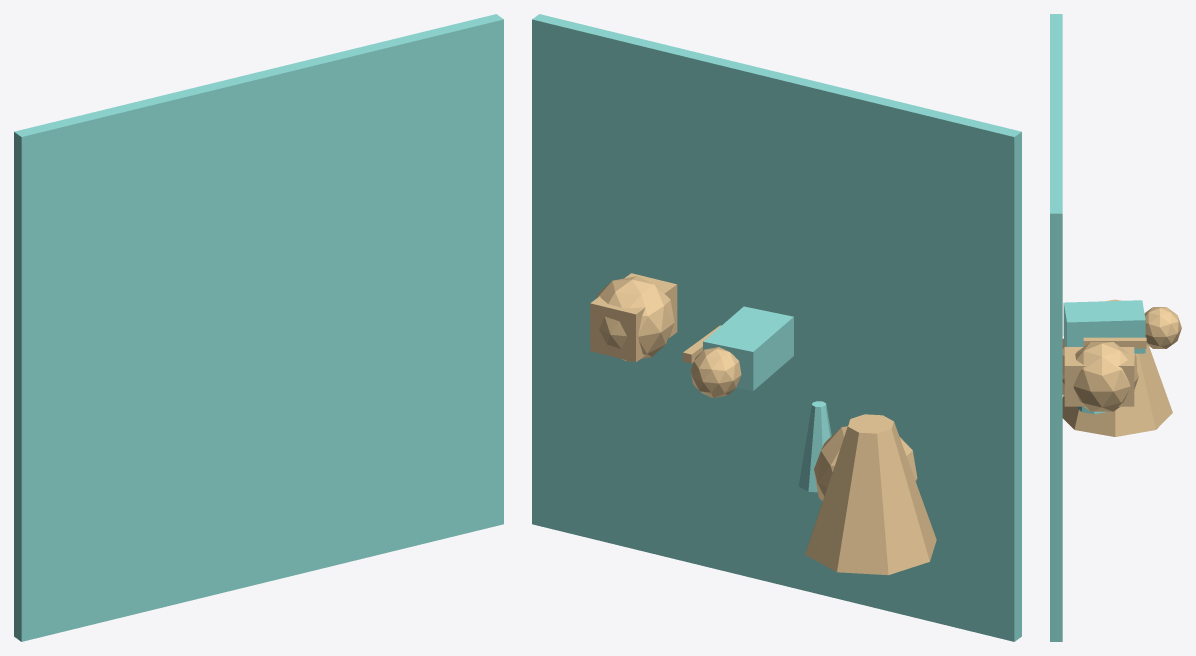
The model's file is europa-survivor-kit.glb.
The picture shows the model from 3 angles, left to right: view 1: azimuth 30°, elevation 25°; view 2: azimuth 150°, elevation 25°; view 3: azimuth 270°, elevation 25°; orthographic projection. The views are drawn at different scales.
Parts seen in each view (by area): view 1: ENVIRONMENT_GROUND; view 2: ENVIRONMENT_GROUND, ENVIRONMENT_LANDMARK, PLAYER_BODY, OBSTACLE, PROFILE_OBSTACLE_DETAIL, PLAYER_HEAD, PROFILE_ENVIRONMENT_SPIRE, PROFILE_ENVIRONMENT_DETAIL; view 3: ENVIRONMENT_GROUND, ENVIRONMENT_LANDMARK, OBSTACLE, PLAYER_BODY, PROFILE_OBSTACLE_DETAIL, PLAYER_HEAD, PLAYER_TOOL, PROFILE_ENVIRONMENT_DETAIL.
Boxes of the visible parts, bbox=[...] form: ENVIRONMENT_GROUND: bbox=[14, 14, 503, 641]; ENVIRONMENT_GROUND: bbox=[532, 14, 1021, 641]; ENVIRONMENT_LANDMARK: bbox=[805, 414, 936, 575]; PLAYER_BODY: bbox=[703, 306, 793, 390]; OBSTACLE: bbox=[590, 276, 674, 361]; PROFILE_OBSTACLE_DETAIL: bbox=[590, 273, 677, 362]; PLAYER_HEAD: bbox=[690, 347, 741, 398]; PROFILE_ENVIRONMENT_SPIRE: bbox=[798, 401, 831, 492]; PROFILE_ENVIRONMENT_DETAIL: bbox=[814, 426, 917, 501]; ENVIRONMENT_GROUND: bbox=[1050, 14, 1062, 641]; ENVIRONMENT_LANDMARK: bbox=[1062, 299, 1172, 436]; OBSTACLE: bbox=[1073, 342, 1138, 411]; PLAYER_BODY: bbox=[1063, 300, 1145, 353]; PROFILE_OBSTACLE_DETAIL: bbox=[1064, 347, 1134, 406]; PLAYER_HEAD: bbox=[1144, 307, 1181, 348]; PLAYER_TOOL: bbox=[1083, 337, 1146, 348]; PROFILE_ENVIRONMENT_DETAIL: bbox=[1062, 338, 1136, 395].
Size of what is drawn, in the model's own units: 9 by 9 by 2.51.
